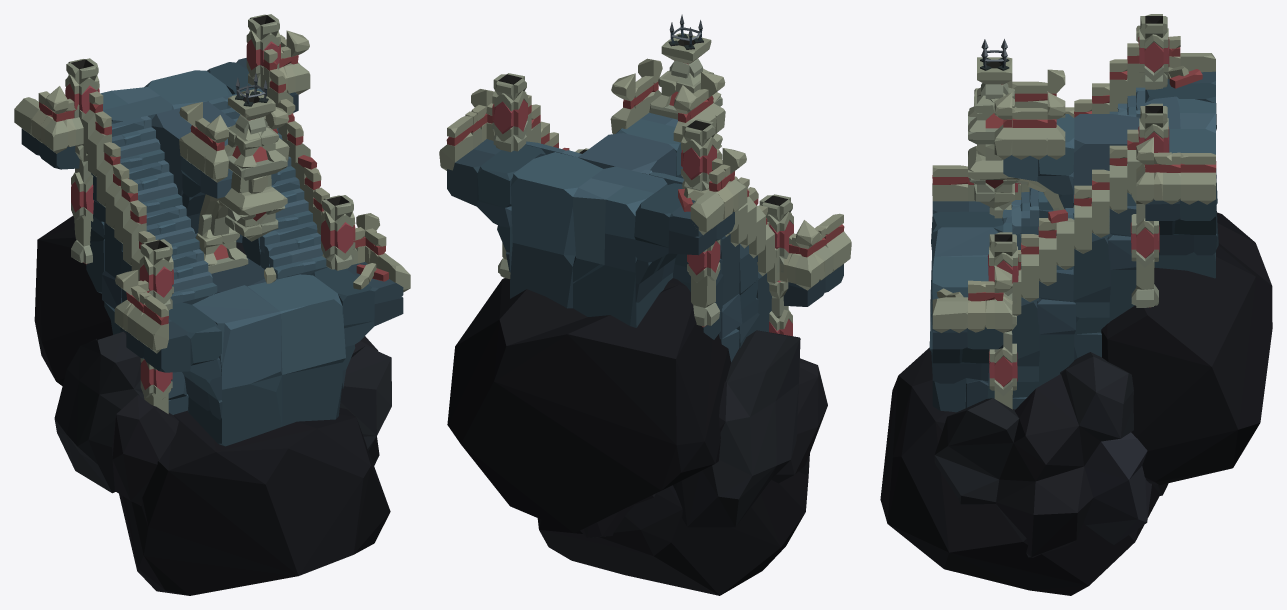
File: hallway_I_stairs.fbx
3 renders of one model, left to right at view 1: azimuth 30°, elevation 25°; view 2: azimuth 150°, elevation 25°; view 3: azimuth 270°, elevation 25°, orthographic. The views are drawn at different scales.
Parts seen in each view (by area): view 1: hallway_I_stairs; view 2: hallway_I_stairs; view 3: hallway_I_stairs.
Part boxes in pixels (left/top/right/bottom): hallway_I_stairs: left=14, top=14, right=410, bottom=595; hallway_I_stairs: left=439, top=14, right=851, bottom=595; hallway_I_stairs: left=880, top=14, right=1272, bottom=595.
Bounding box in the file's own units: 968 × 1611 × 1107.
